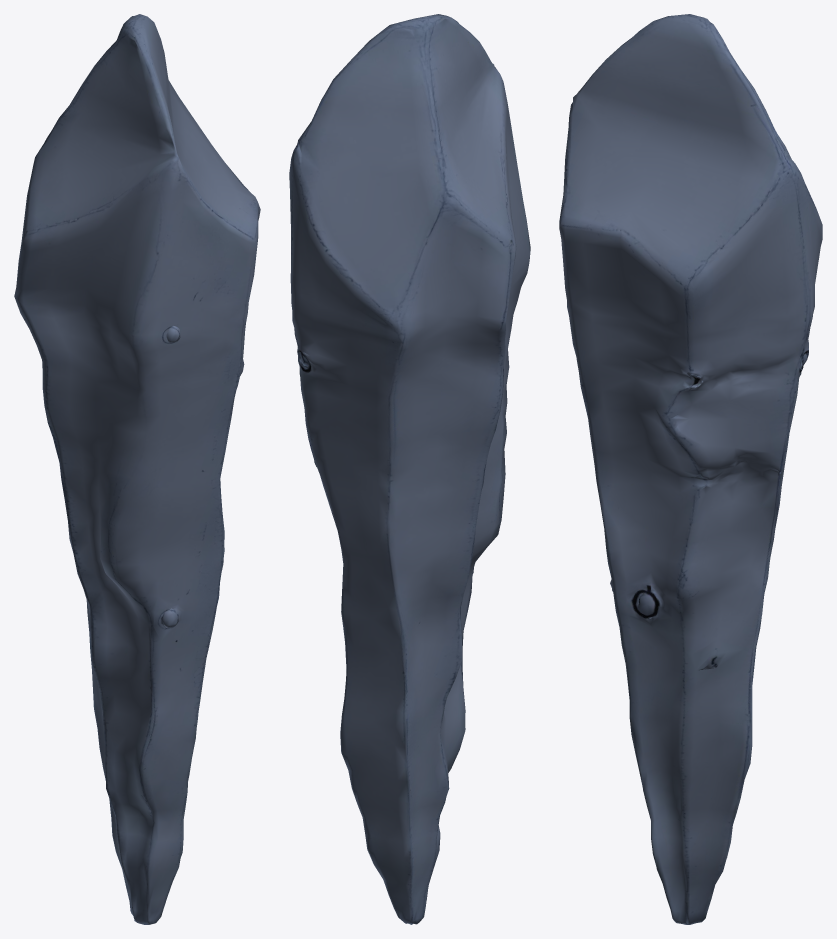
3 renders of one model, left to right at view 1: azimuth 30°, elevation 25°; view 2: azimuth 150°, elevation 25°; view 3: azimuth 270°, elevation 25°, orthographic.
Visible parts, largest first — view 1: tripo_node_cbf86067-630e-4939-ae43-8b70849adeb1; view 2: tripo_node_cbf86067-630e-4939-ae43-8b70849adeb1; view 3: tripo_node_cbf86067-630e-4939-ae43-8b70849adeb1.
Boxes of the visible parts, x1,y1,x2,y2 form: tripo_node_cbf86067-630e-4939-ae43-8b70849adeb1: [14, 14, 260, 924]; tripo_node_cbf86067-630e-4939-ae43-8b70849adeb1: [289, 14, 530, 924]; tripo_node_cbf86067-630e-4939-ae43-8b70849adeb1: [559, 14, 822, 924].
Bounding box in the file's own units: 0.2598 × 0.998 × 0.2637.
1 material, 1 textured.
